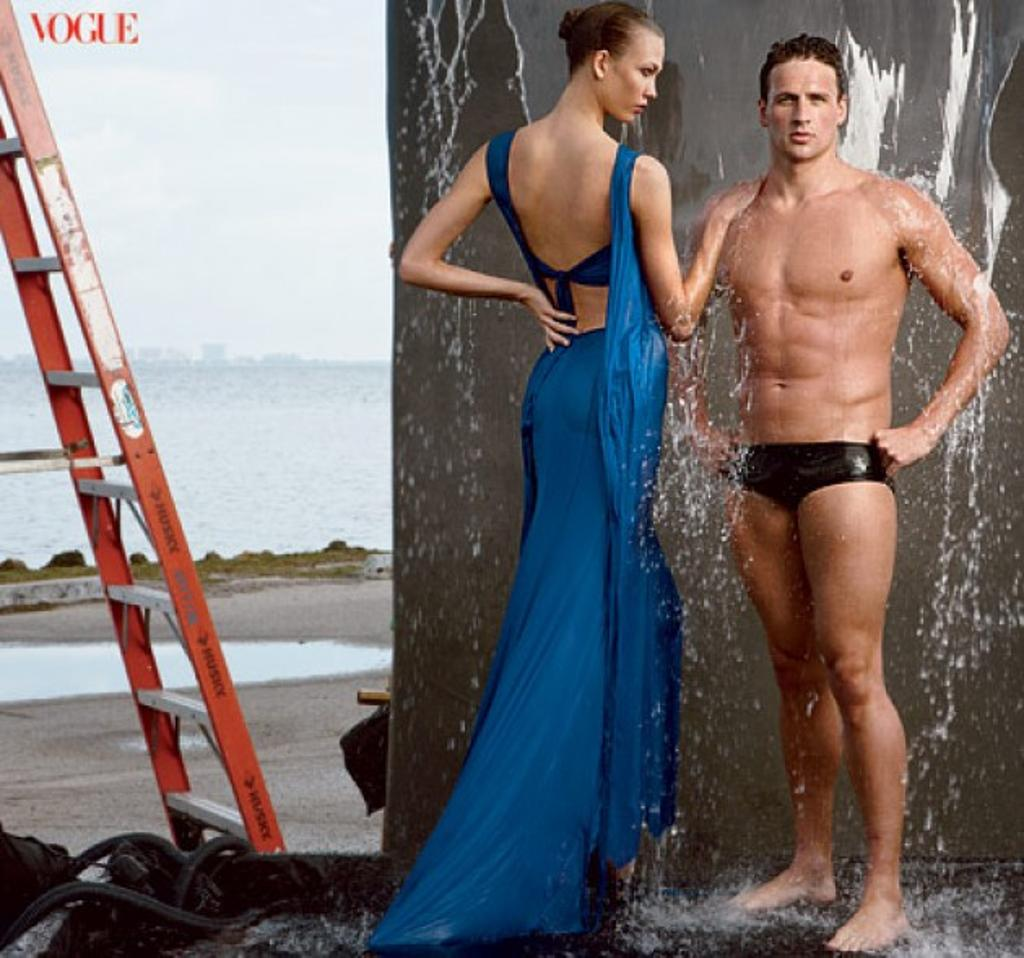face: (766, 68, 838, 154), (612, 36, 666, 124)
